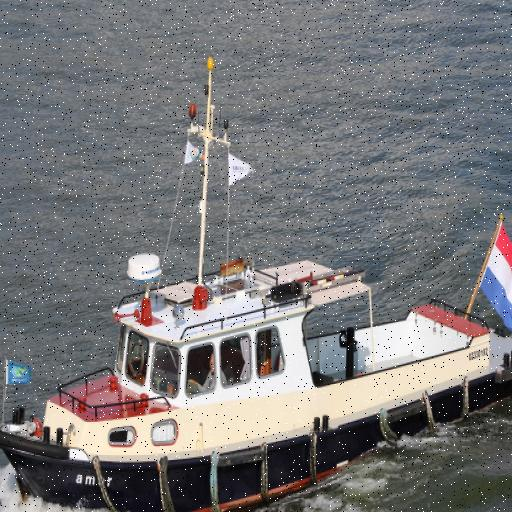tugboat: (1, 48, 512, 512)
